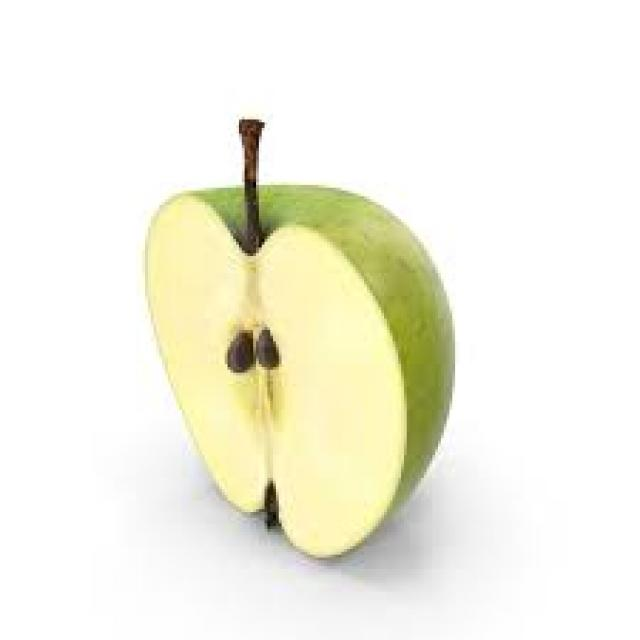Apple: (146, 183, 456, 564)
